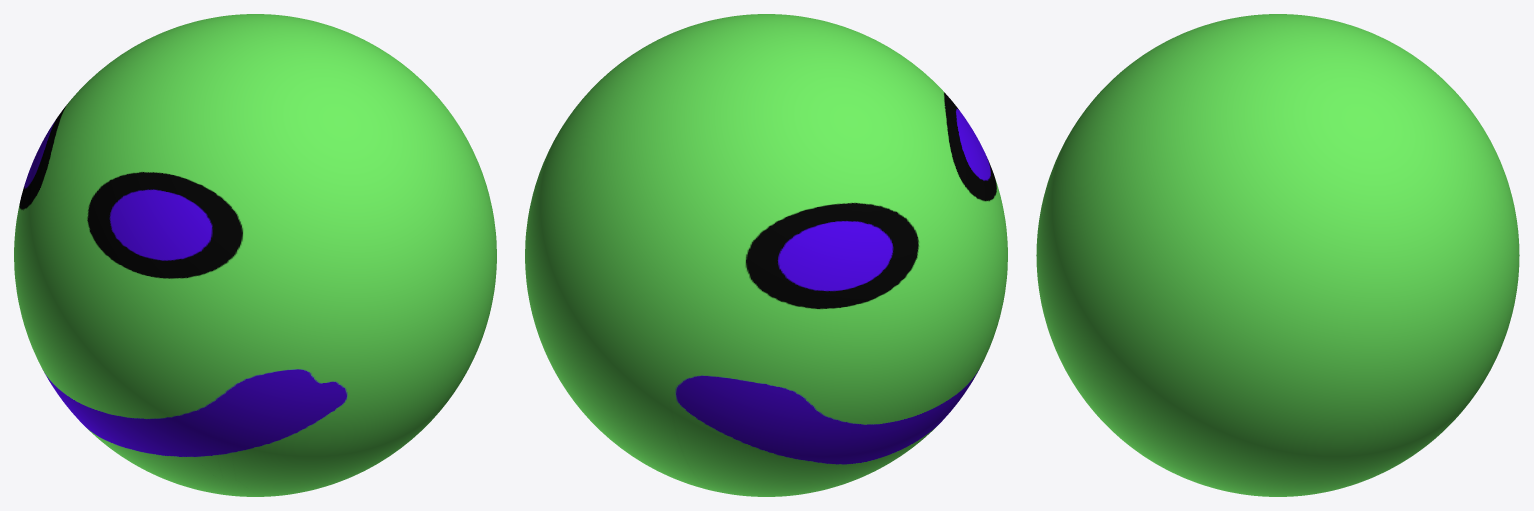
File: tab.fbx
The picture shows the model from 3 angles, left to right: view 1: azimuth 30°, elevation 25°; view 2: azimuth 150°, elevation 25°; view 3: azimuth 270°, elevation 25°; orthographic projection.
Visible parts, largest first — view 1: Sphere; view 2: Sphere; view 3: Sphere.
Part boxes in pixels (<box>): Sphere: <box>14,14,496,496</box>; Sphere: <box>525,14,1007,496</box>; Sphere: <box>1036,14,1519,496</box>.
Size of the model in its own units: 107 by 107 by 107.
1 material, 1 textured.
